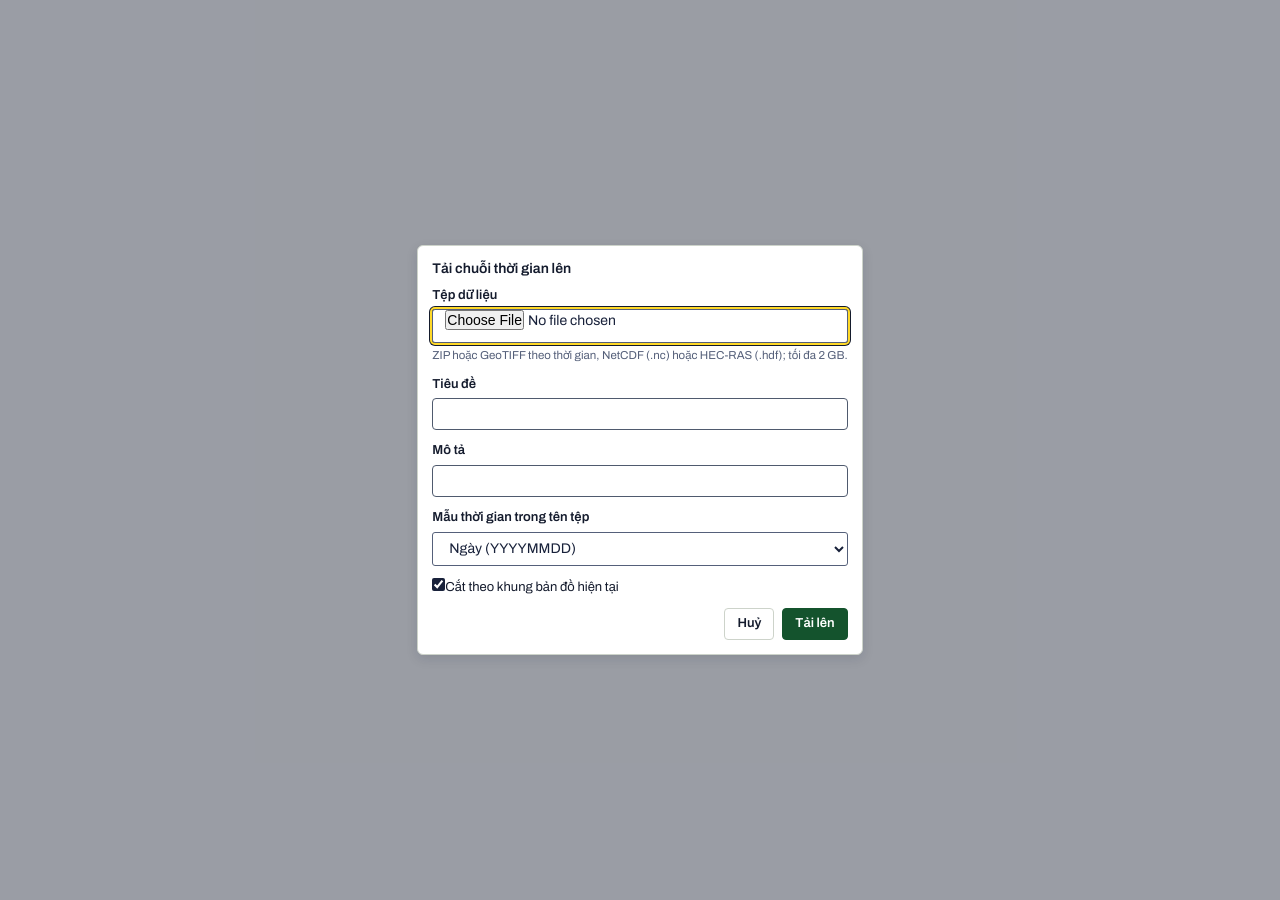
TimeseriesUploadDialog › I2: a retry with the same file reuses the upload; another file is uploaded
The image size is (1280, 900).
Earlier steps of the test are not shown.
Later steps or results of the test are not shown.
Type "Mưa" into the field labelled "Tiêu đề" at (640, 414), box [432, 398, 848, 430]
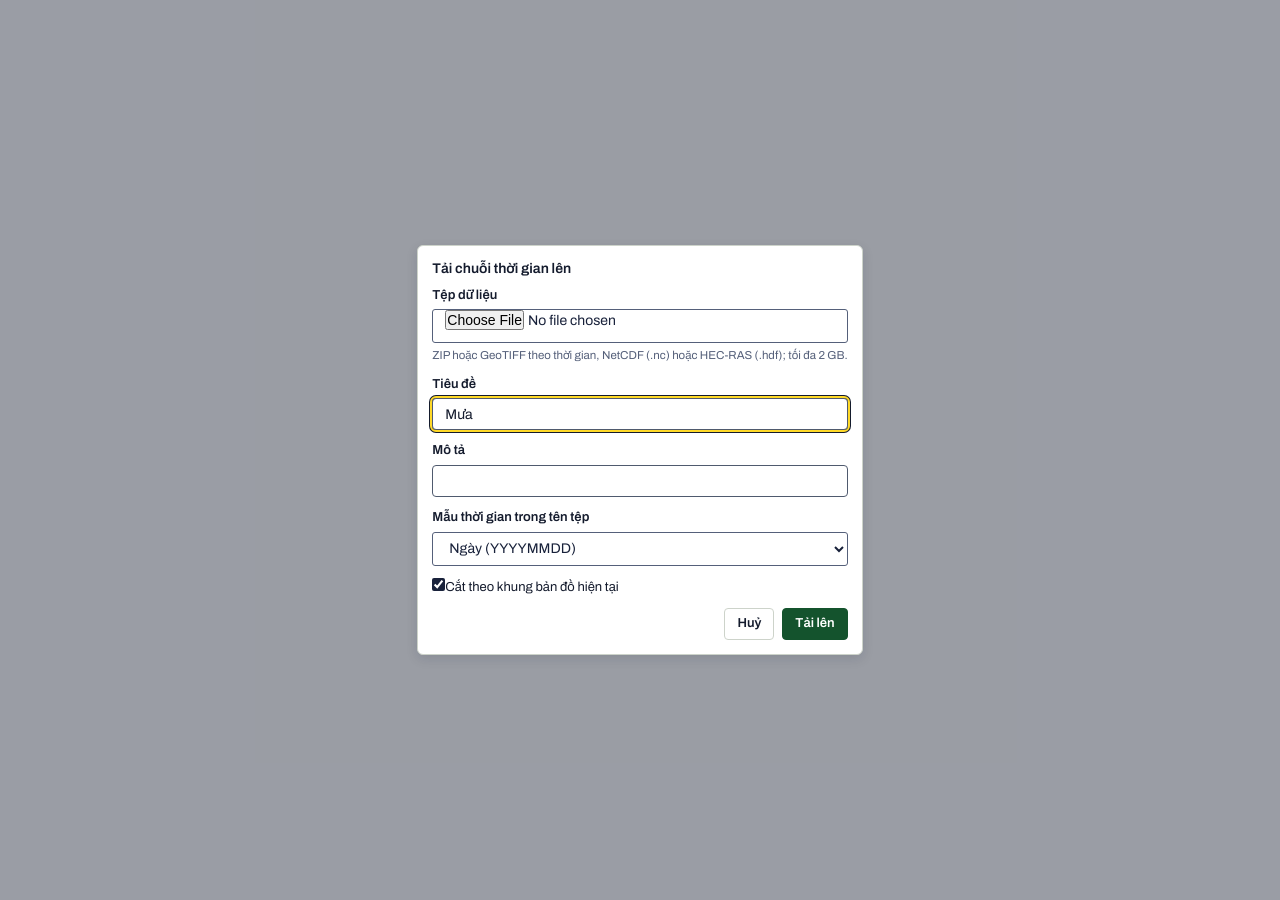
Click the button "Tải lên" at (815, 624), box [782, 608, 848, 640]
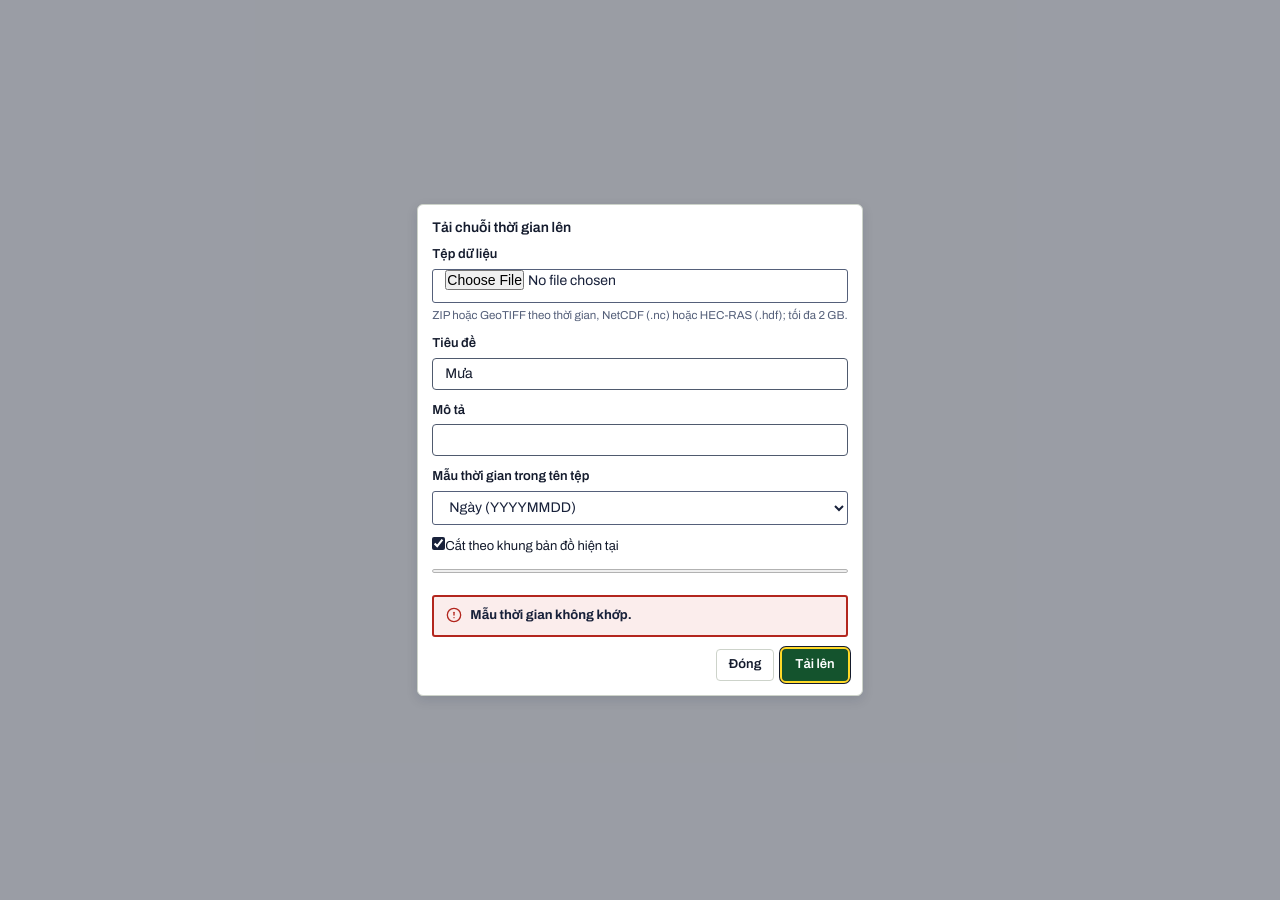
Check: the text "Mẫu thời gian không khớp." is shown, box [470, 608, 632, 622]
